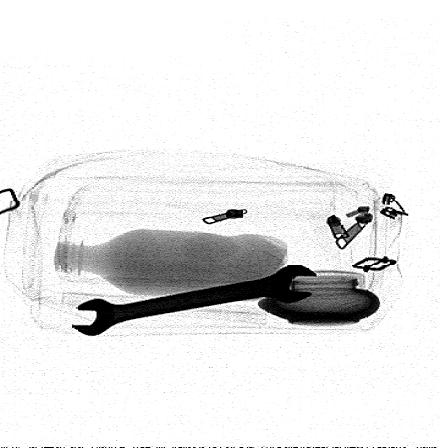Wrench: (69, 263, 319, 338)
